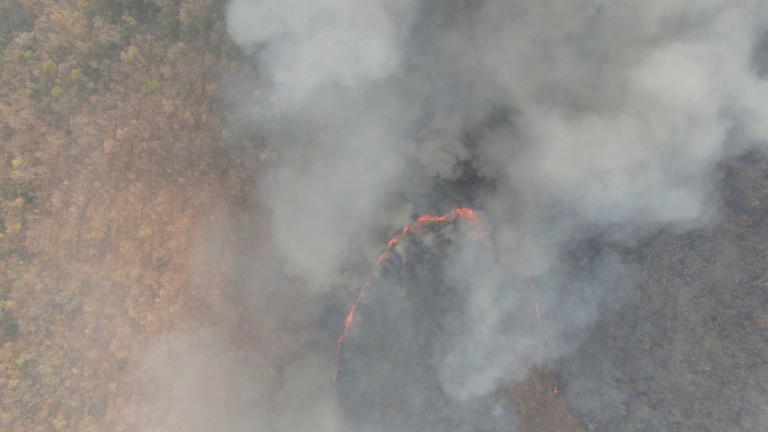fire: (330, 202, 494, 384), (523, 268, 567, 401)
smoke: (439, 1, 753, 373), (249, 1, 428, 272), (142, 323, 352, 432)
